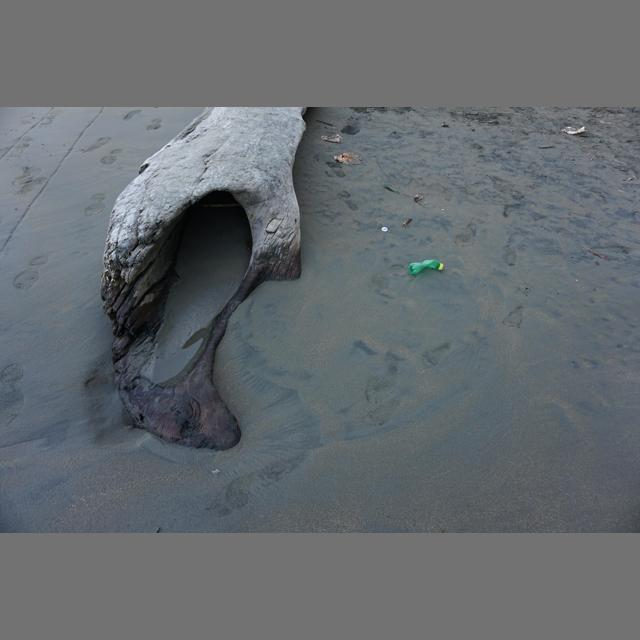litter: (409, 260, 443, 274), (438, 263, 443, 270), (382, 227, 388, 232)
